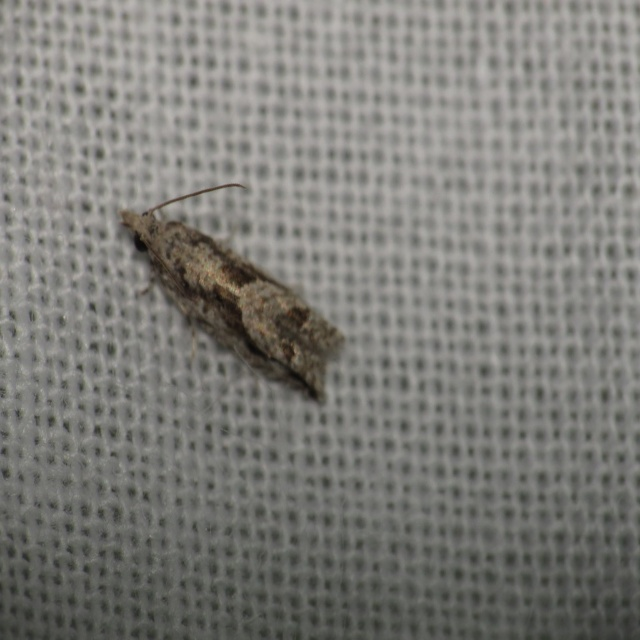Moths and butterflies: (119, 174, 348, 405)
